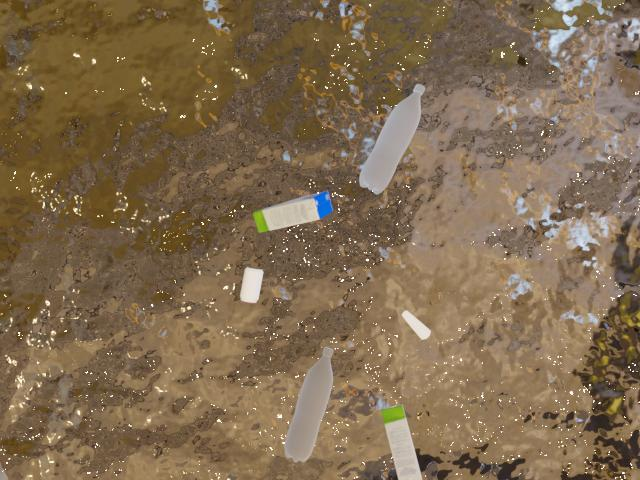Metal: (229, 262, 270, 310), (397, 304, 435, 341)
Plastic: (355, 76, 450, 199), (272, 341, 351, 470)
Trash: (373, 398, 435, 480), (243, 188, 339, 237)
